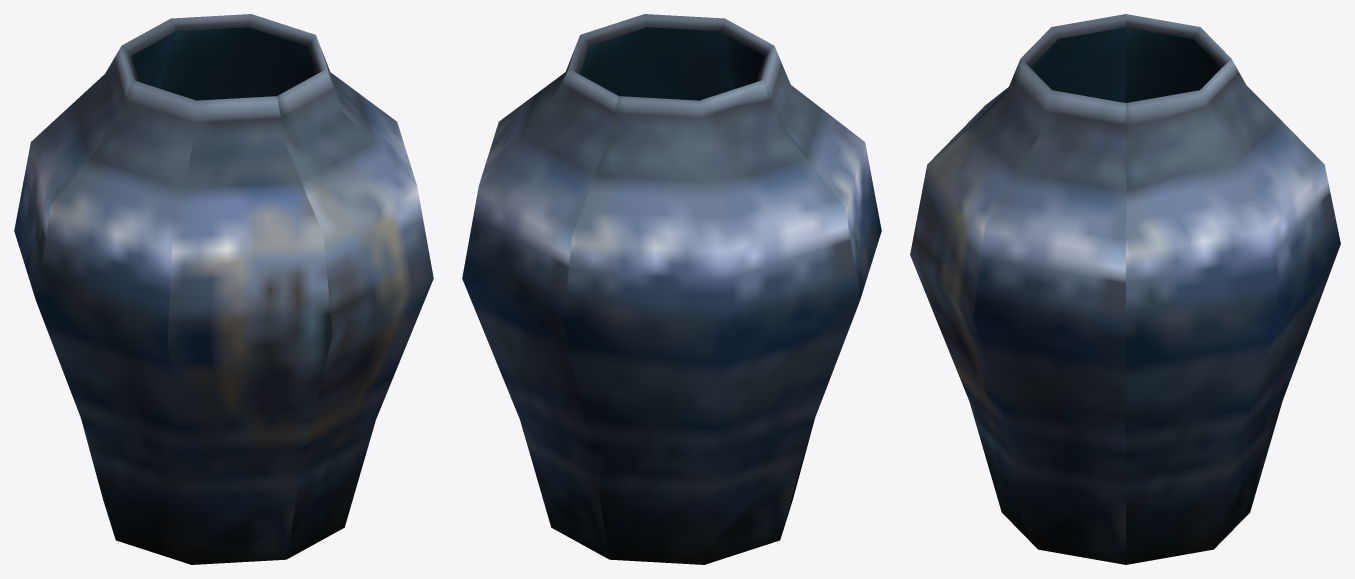
The model's file is general_obj_jar_blue01.fbx.
The picture shows the model from 3 angles, left to right: view 1: azimuth 30°, elevation 25°; view 2: azimuth 150°, elevation 25°; view 3: azimuth 270°, elevation 25°; orthographic projection.
Visible parts, largest first — view 1: Object22; view 2: Object22; view 3: Object22.
Part boxes in pixels (bbox=[...]): Object22: bbox=[14, 14, 433, 564]; Object22: bbox=[462, 14, 881, 564]; Object22: bbox=[910, 14, 1340, 564].
Size of the model in its own units: 0.7572 by 0.8784 by 0.7557.
